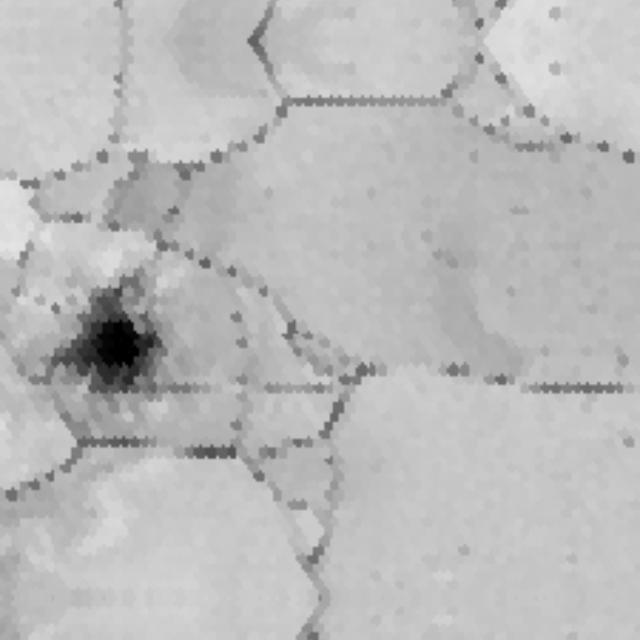good_void: (28, 265, 176, 414), (614, 432, 640, 457), (609, 348, 631, 370)
